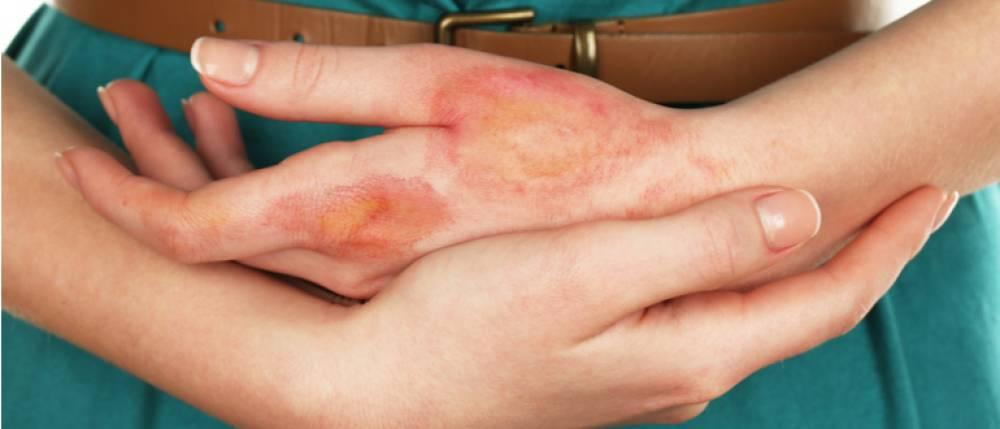burned-skin: (406, 67, 698, 208), (242, 164, 455, 257), (117, 182, 246, 246)
